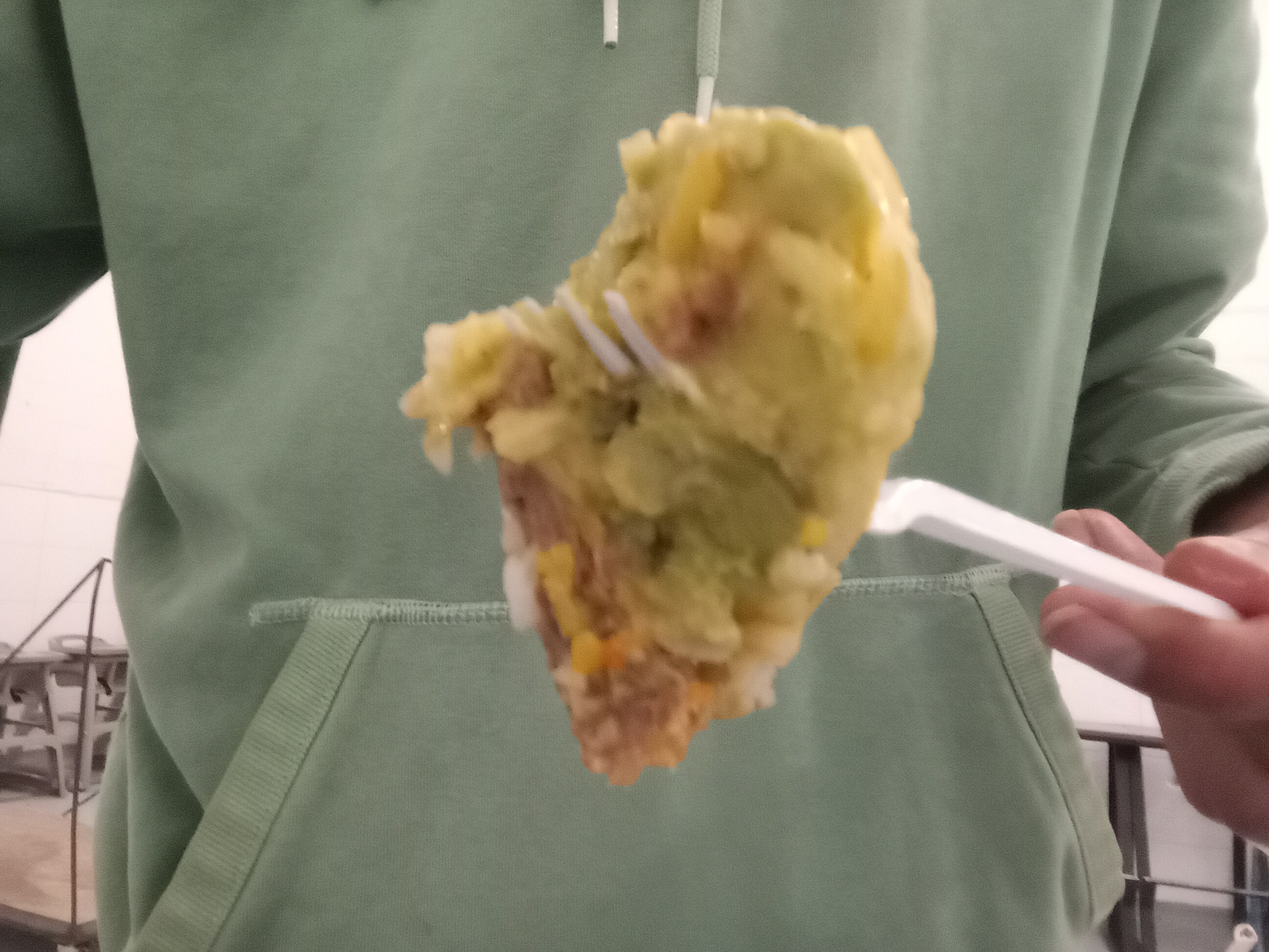Organico: (400, 102, 931, 786)
